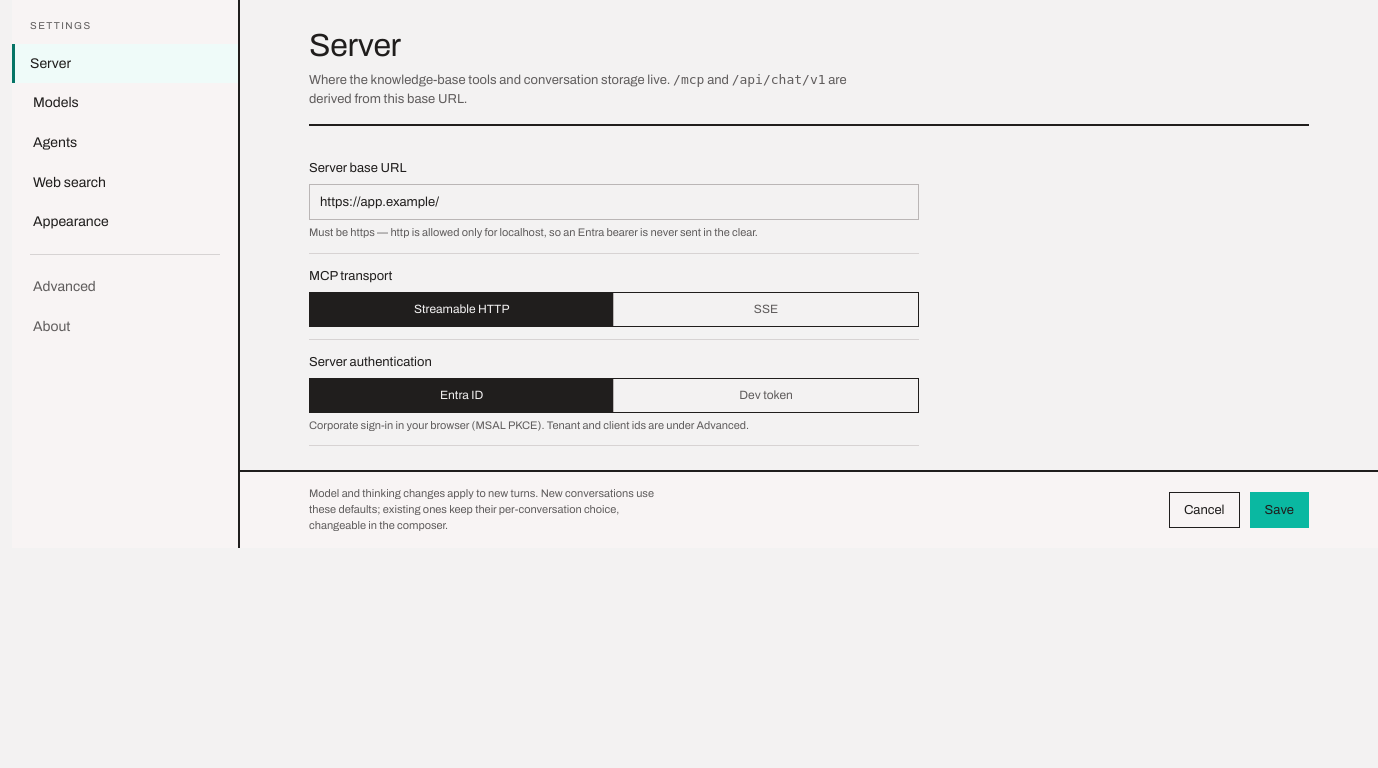
Test: SettingsView › shows the allow-list as read-only deployment configuration
This screenshot has width=1378, height=768.
Click the button "Web search" at (125, 182), box [12, 163, 238, 202]
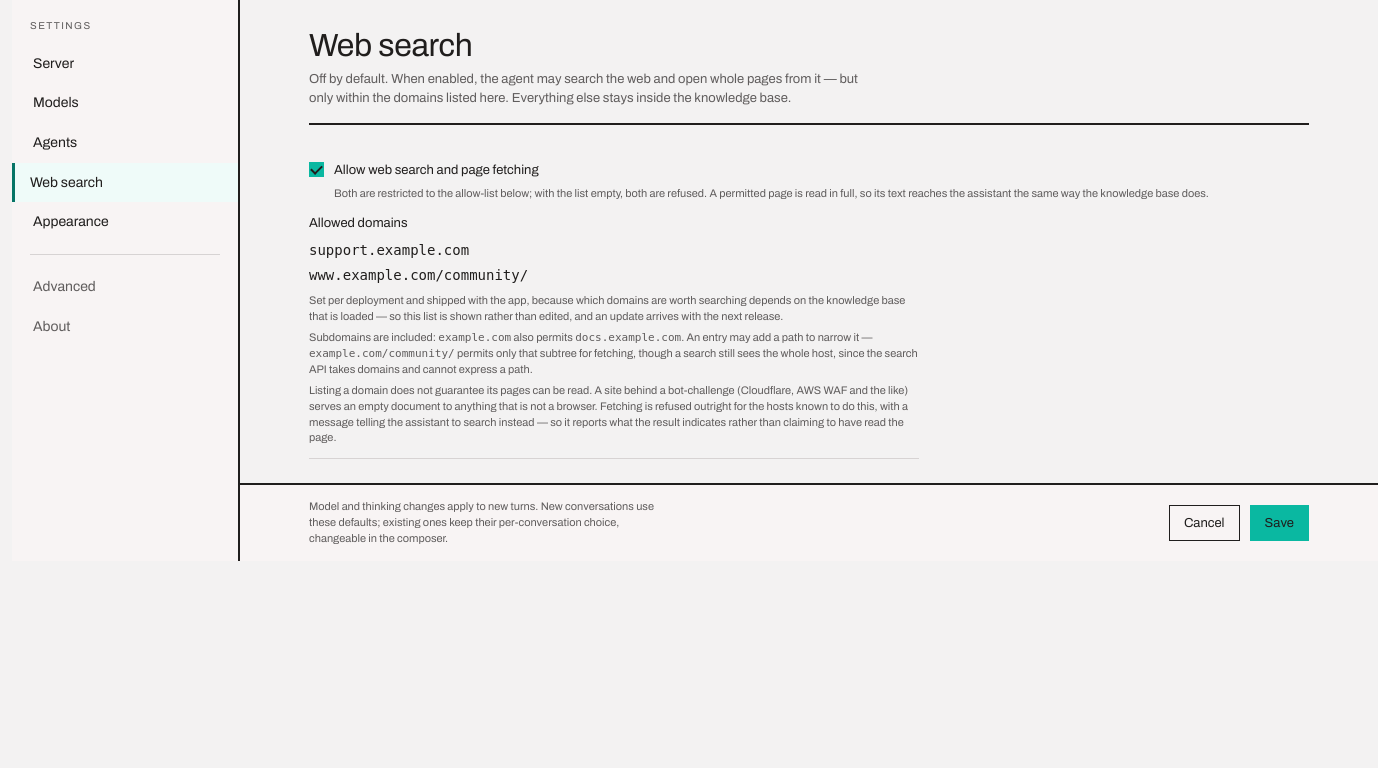
Expected: the text "support.example.com" is shown, [309, 242, 469, 258]
Expected: the text "www.example.com/community/" is shown, [309, 267, 528, 283]
